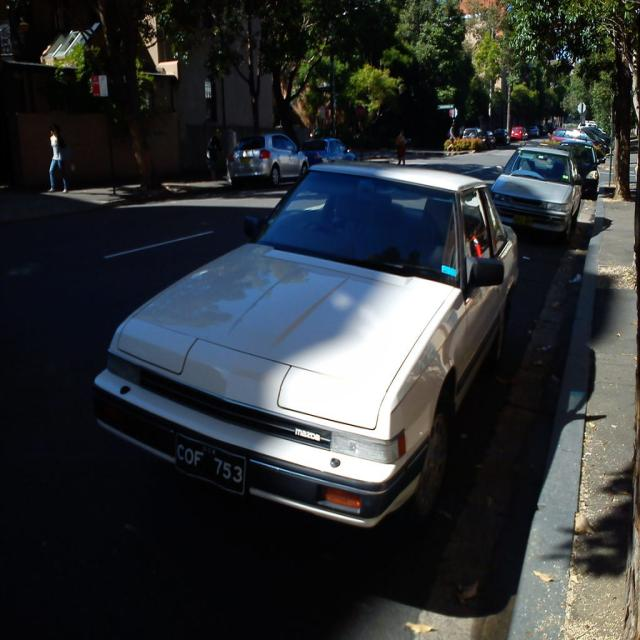car: (87, 152, 521, 533), (223, 131, 314, 190)
